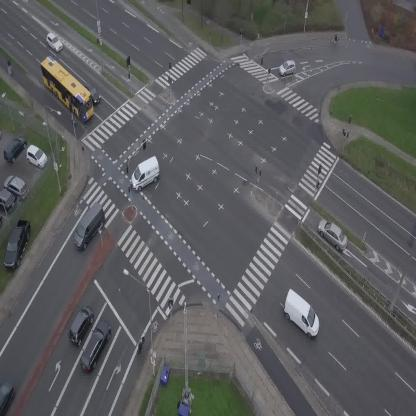bicycle: (134, 334, 146, 355), (330, 33, 342, 46), (5, 58, 14, 73)
bus: (33, 53, 103, 124)
car: (76, 317, 116, 375), (311, 215, 353, 254), (63, 303, 98, 348), (82, 80, 103, 106), (42, 31, 65, 54), (0, 379, 14, 416), (277, 59, 298, 77)
lorry: (273, 287, 328, 341), (65, 201, 113, 253), (124, 156, 166, 193)
